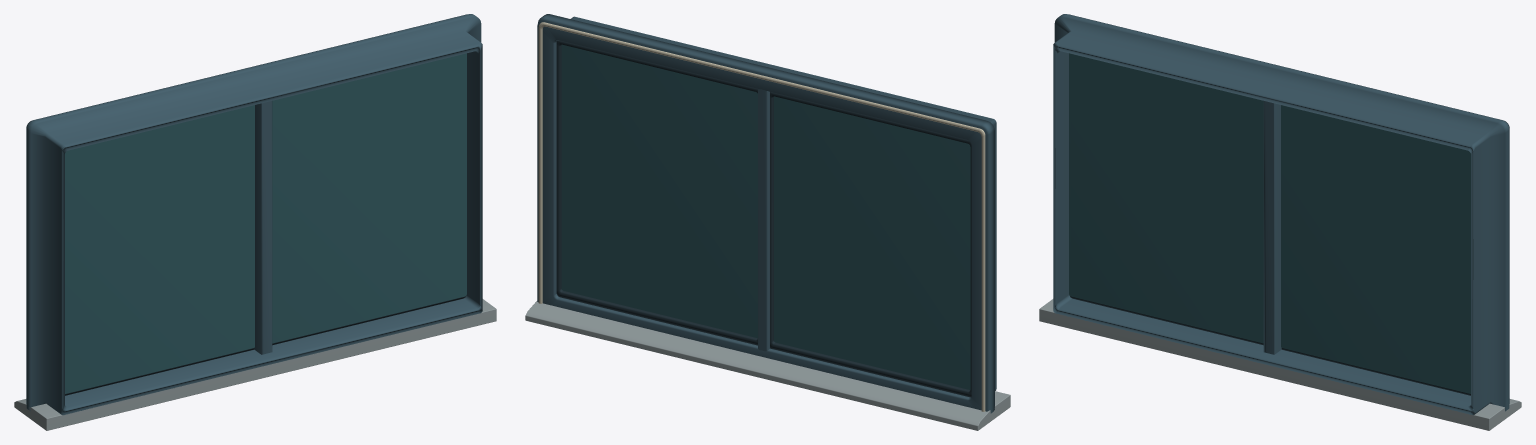
File: city_shop_fittings_05.glb
The picture shows the model from 3 angles, left to right: view 1: azimuth 30°, elevation 25°; view 2: azimuth 150°, elevation 25°; view 3: azimuth 330°, elevation 25°; orthographic projection.
Visible parts, largest first — view 1: right_opaque_glazing, left_opaque_glazing, formed_perimeter, sloped_sill, centre_mullion, right_glazing_gasket; view 2: right_opaque_glazing, left_opaque_glazing, formed_perimeter, sloped_sill, ivory_perimeter_inlay, left_glazing_gasket, right_glazing_gasket, centre_mullion; view 3: left_opaque_glazing, right_opaque_glazing, formed_perimeter, sloped_sill, centre_mullion, left_glazing_gasket.
Part boxes in pixels (x1=…): right_opaque_glazing: x1=272, y1=53, x2=466, y2=343; left_opaque_glazing: x1=65, y1=105, x2=254, y2=393; formed_perimeter: x1=26, y1=14, x2=482, y2=415; sloped_sill: x1=14, y1=299, x2=496, y2=430; centre_mullion: x1=254, y1=101, x2=272, y2=354; right_glazing_gasket: x1=272, y1=296, x2=465, y2=345; right_opaque_glazing: x1=561, y1=44, x2=757, y2=338; left_opaque_glazing: x1=774, y1=96, x2=970, y2=389; formed_perimeter: x1=537, y1=14, x2=996, y2=413; sloped_sill: x1=525, y1=301, x2=1010, y2=430; ivory_perimeter_inlay: x1=538, y1=22, x2=985, y2=411; left_glazing_gasket: x1=770, y1=92, x2=971, y2=397; right_glazing_gasket: x1=556, y1=40, x2=757, y2=345; centre_mullion: x1=758, y1=89, x2=769, y2=351; left_opaque_glazing: x1=1069, y1=53, x2=1263, y2=343; right_opaque_glazing: x1=1281, y1=105, x2=1470, y2=393; formed_perimeter: x1=1053, y1=14, x2=1509, y2=415; sloped_sill: x1=1039, y1=299, x2=1521, y2=430; centre_mullion: x1=1263, y1=101, x2=1281, y2=354; left_glazing_gasket: x1=1070, y1=296, x2=1263, y2=345.
Bounding box in the file's own units: 3.2 × 2 × 0.4.
